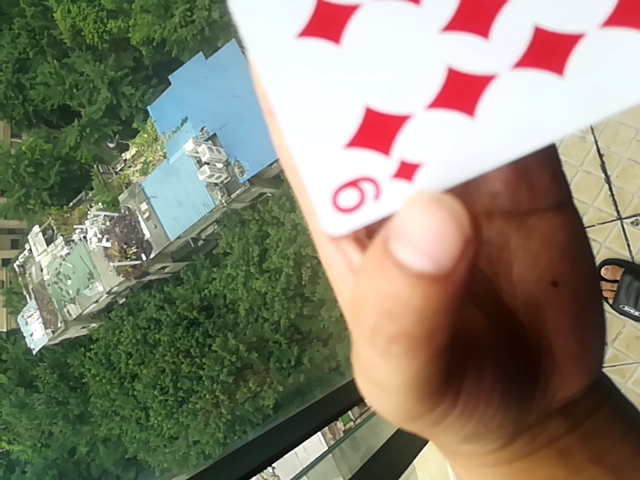fk 9: (208, 1, 640, 248)
